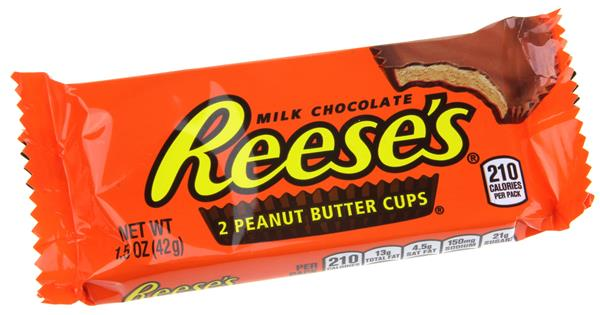reese: (11, 9, 598, 302)
